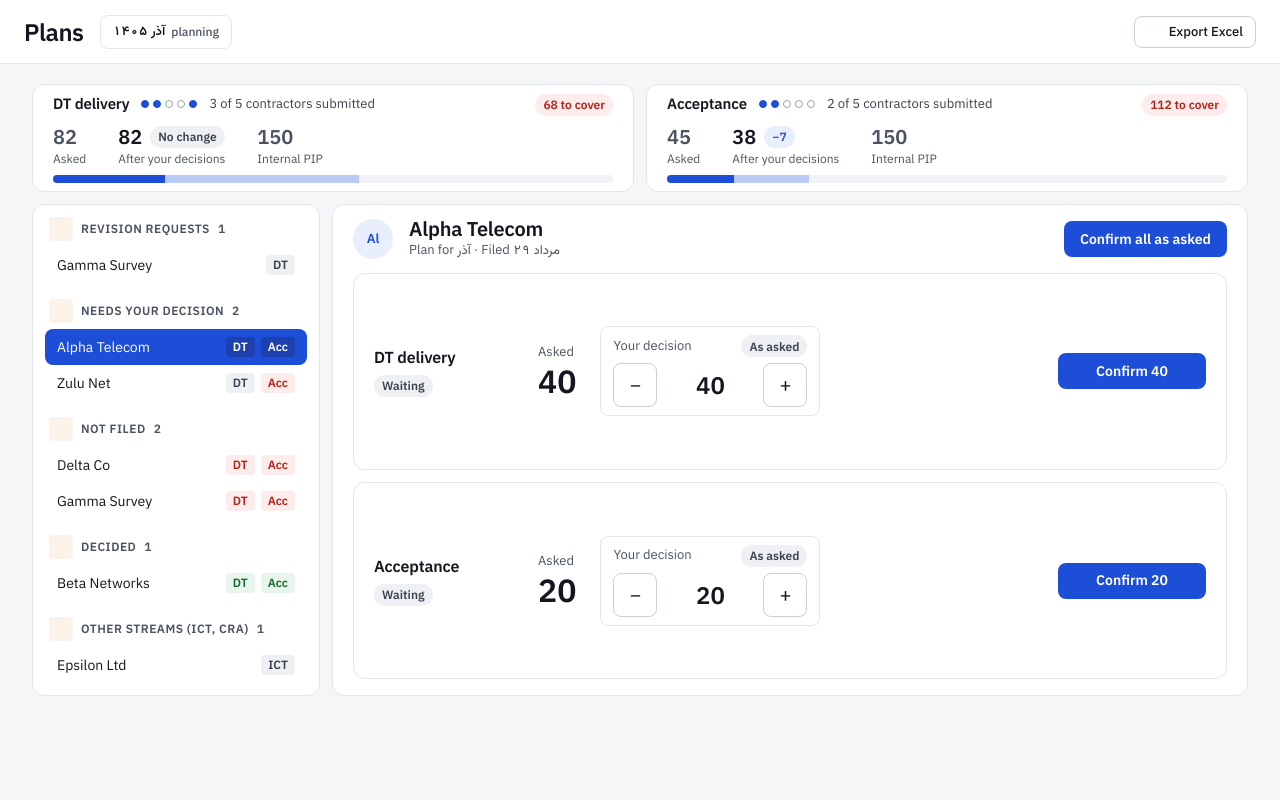
Plans › keeps the number and the comment, and shows the reason, when a decision fails
The width and height of the screenshot is (1280, 800).
Click the button named "Decrease" at (635, 386), box [613,364,657,408]
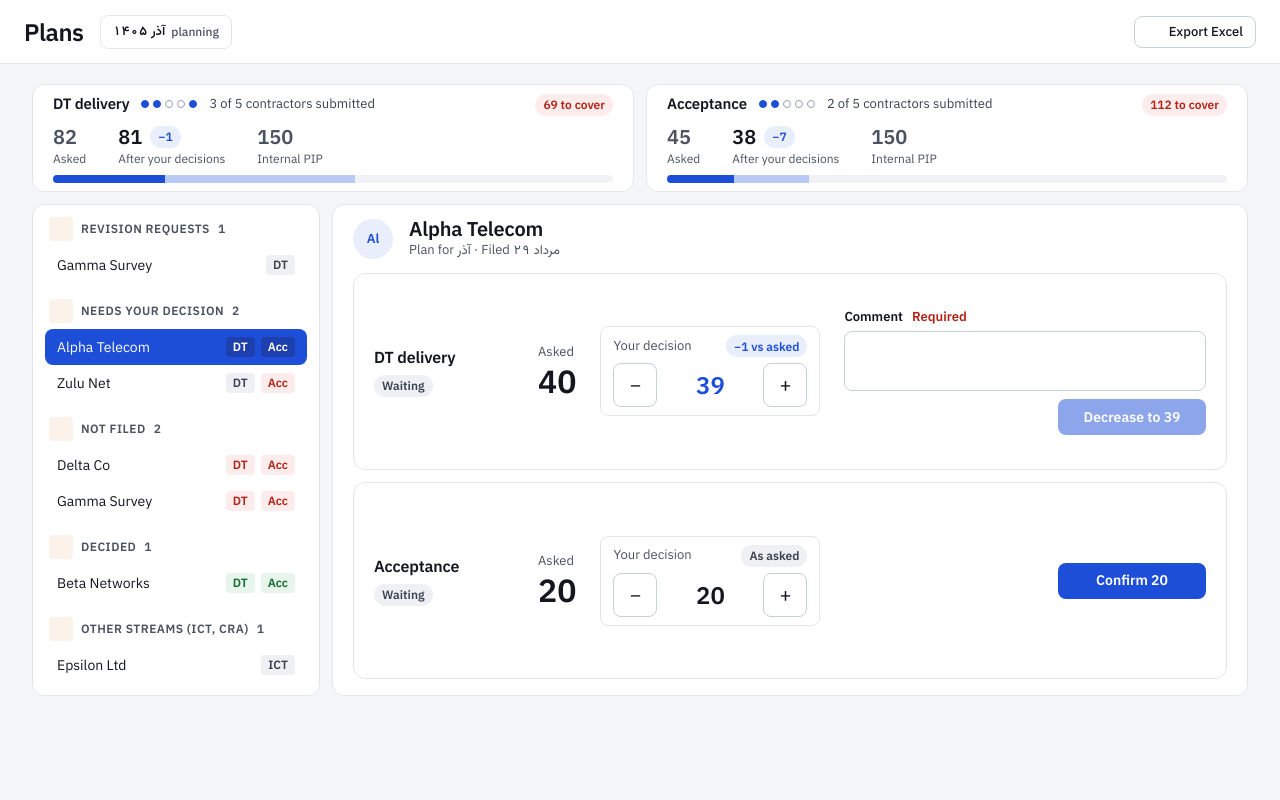
Type "Too high" into the text box labelled "Comment Required" at (1025, 361), box [844,331,1206,391]
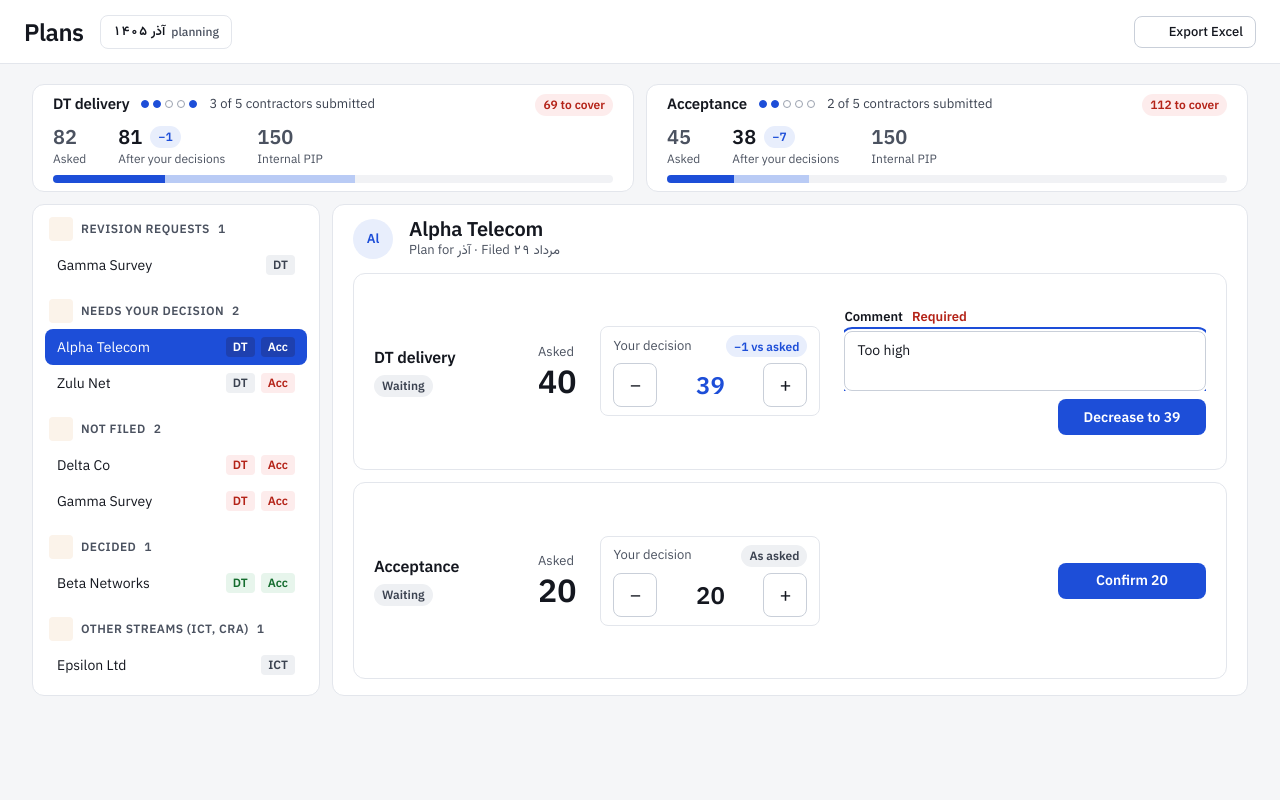
Click the button "Decrease to 39" at (1132, 417), box [1058,399,1206,435]
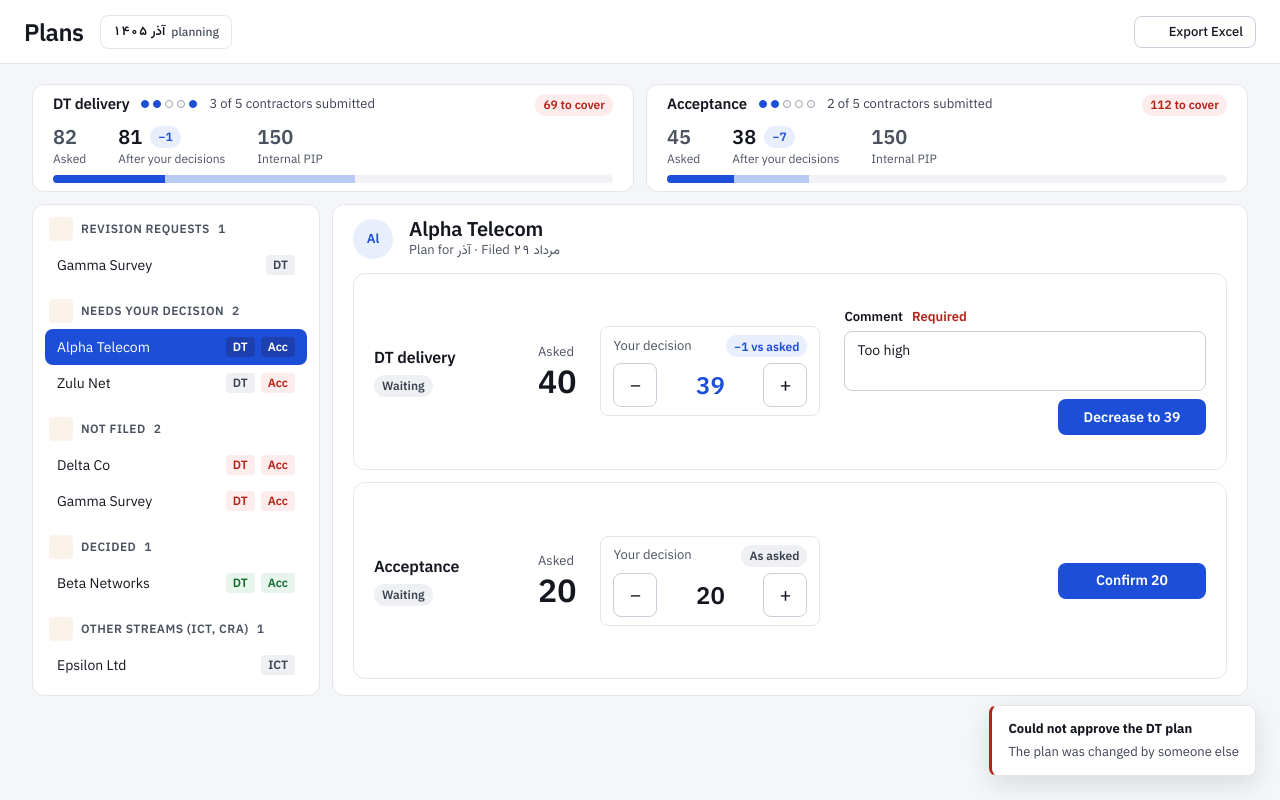
Now the message named "DT delivery, Alpha Telecom" reads "39", box [696,370,725,402]
Now the text "The plan was changed by someone else" is shown, box [1008,743,1239,760]
